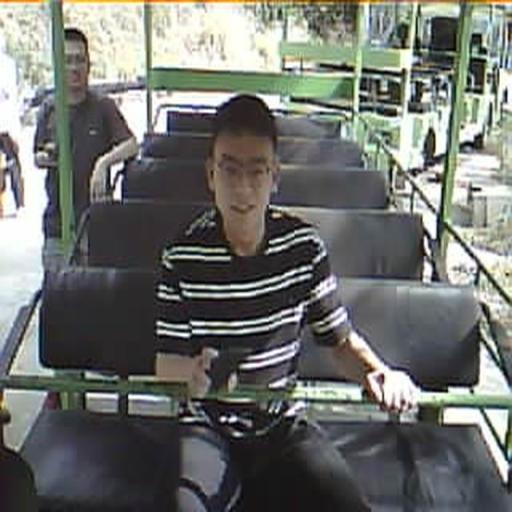persona: (152, 92, 422, 510), (152, 92, 422, 418)
